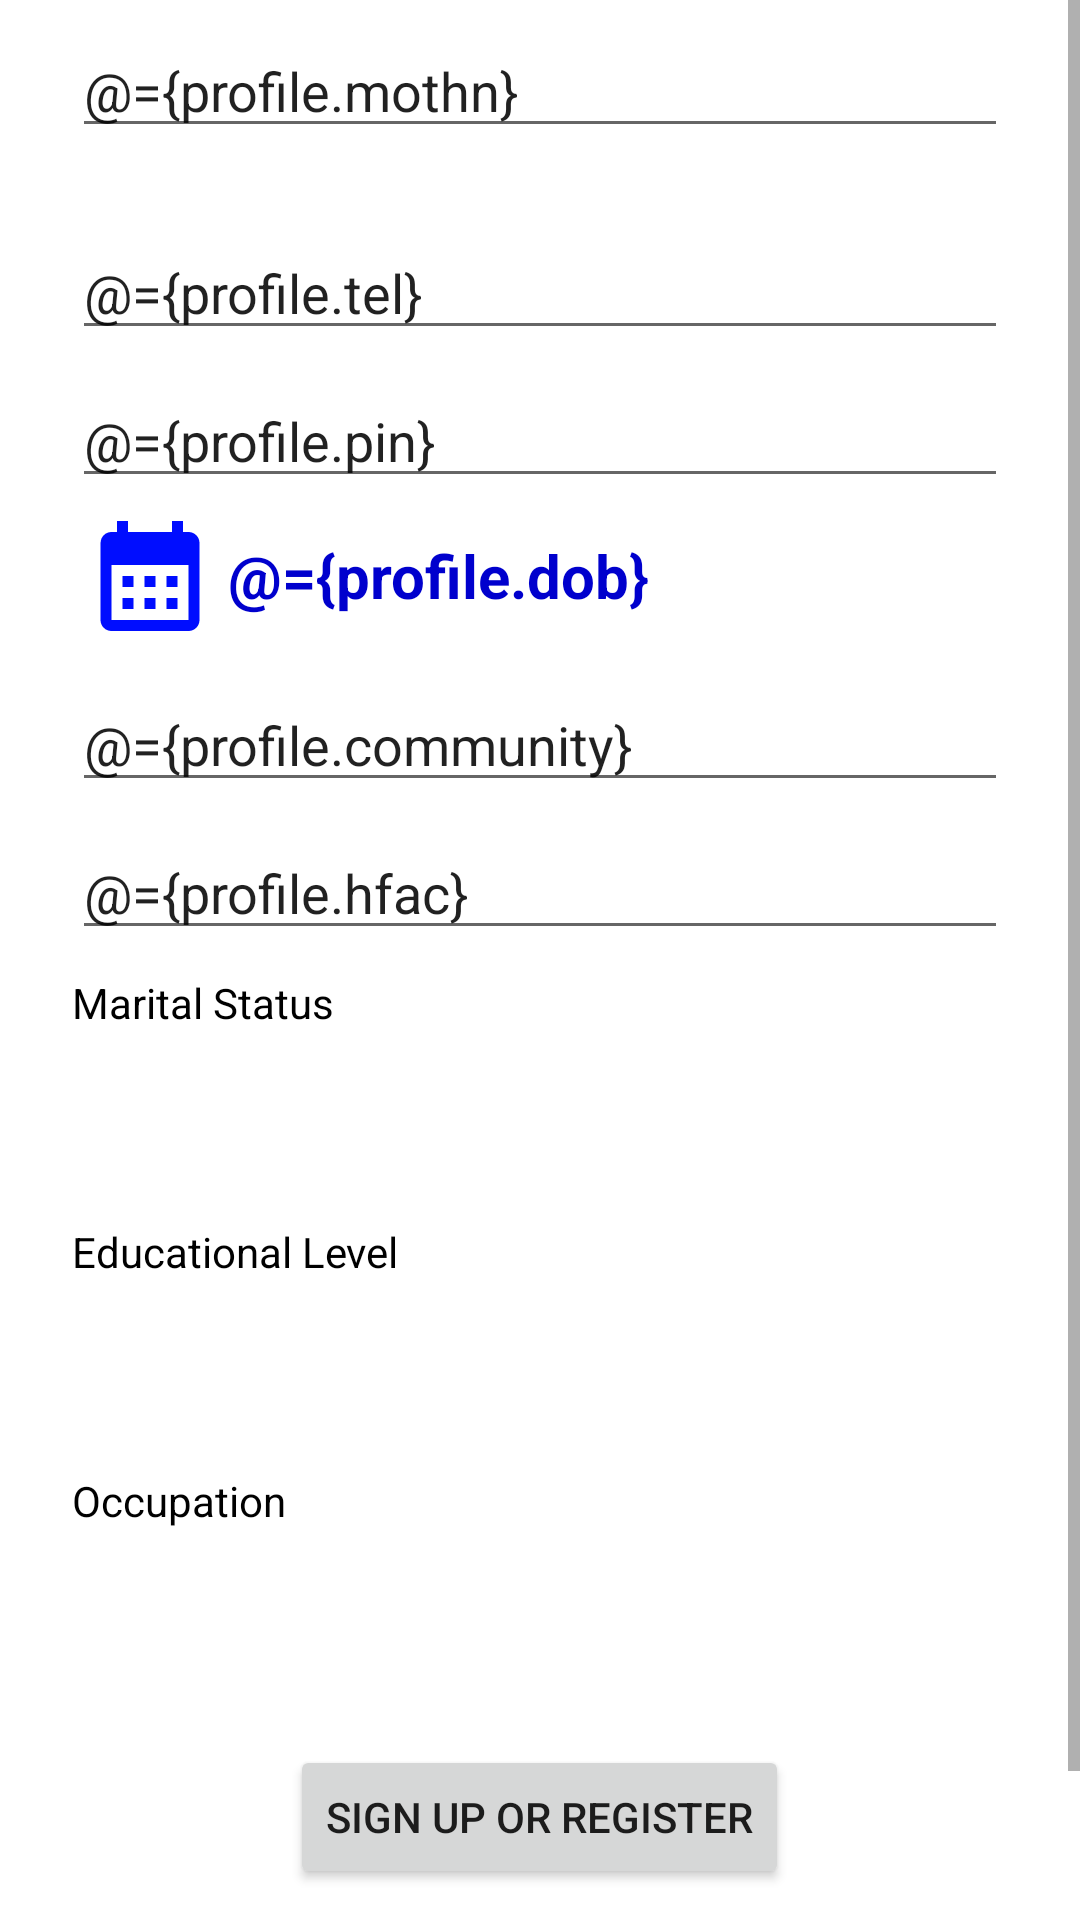

Icon click points for this 1080w x 1920h phone screenshot, format (x=x, y=y):
calendar schedule: (x=150, y=576)
